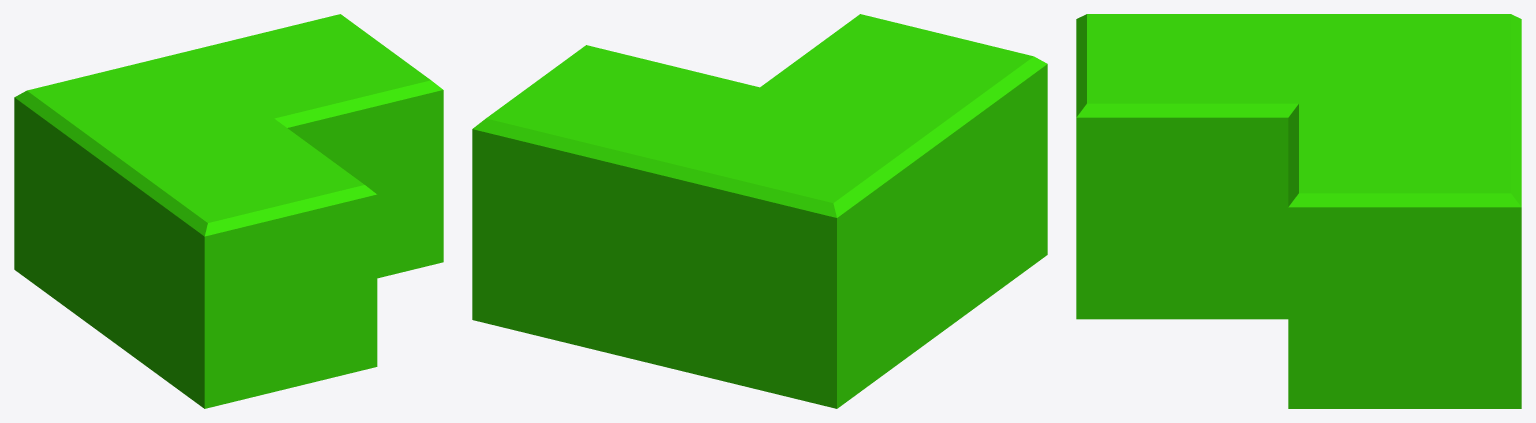
Rendered from basic_L_1.fbx.
3 views of the same model, side by side, from view 1: azimuth 30°, elevation 25°; view 2: azimuth 150°, elevation 25°; view 3: azimuth 270°, elevation 25° (orthographic). The views are drawn at different scales.
Parts seen in each view (by area): view 1: basic_L_1; view 2: basic_L_1; view 3: basic_L_1.
Boxes of the visible parts, x1=… form: basic_L_1: x1=14, y1=14, x2=443, y2=408; basic_L_1: x1=472, y1=14, x2=1047, y2=408; basic_L_1: x1=1076, y1=14, x2=1521, y2=408.
Bounding box in the file's own units: 210 × 110 × 210.
